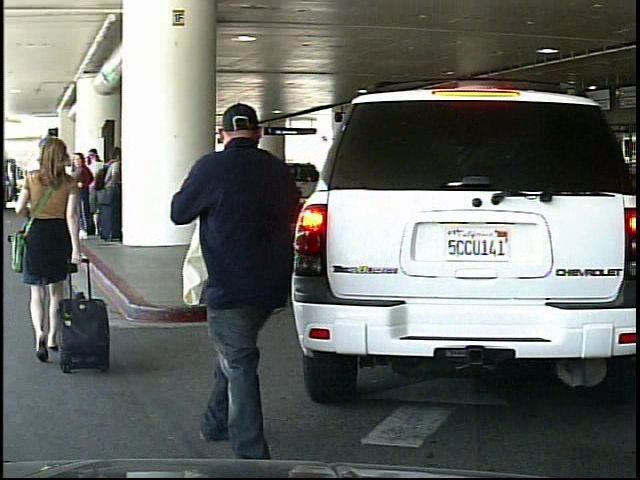person: (175, 95, 336, 460), (6, 128, 91, 382)
